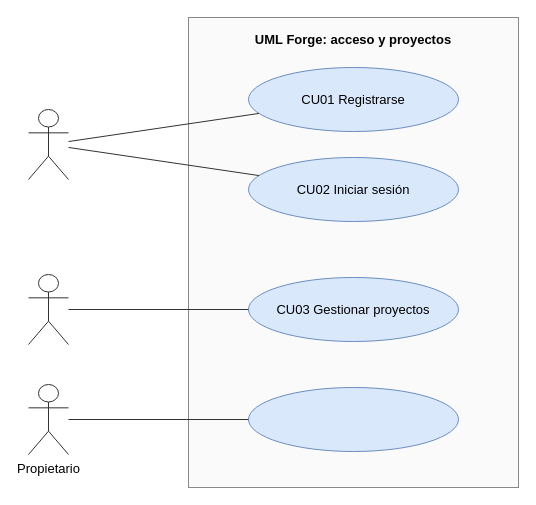
Image size: 536x505. Some labels were removed from this diagram. The shapes that lost their labels are listed below. From the top down, each one's centre as x and y in pixels, then its label:
At point 48,144: "Visitante".
At point 48,309: "Usuario registrado".
At point 353,419: "CU04 Gestionar miembros".
